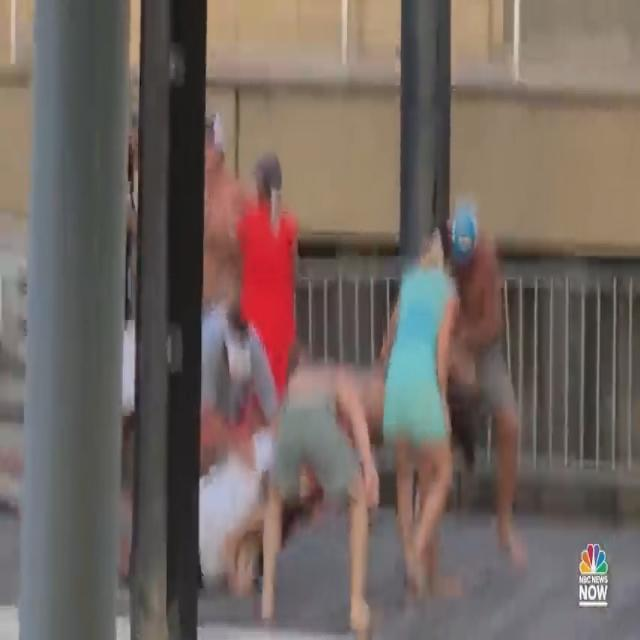fight: (126, 58, 520, 640)
